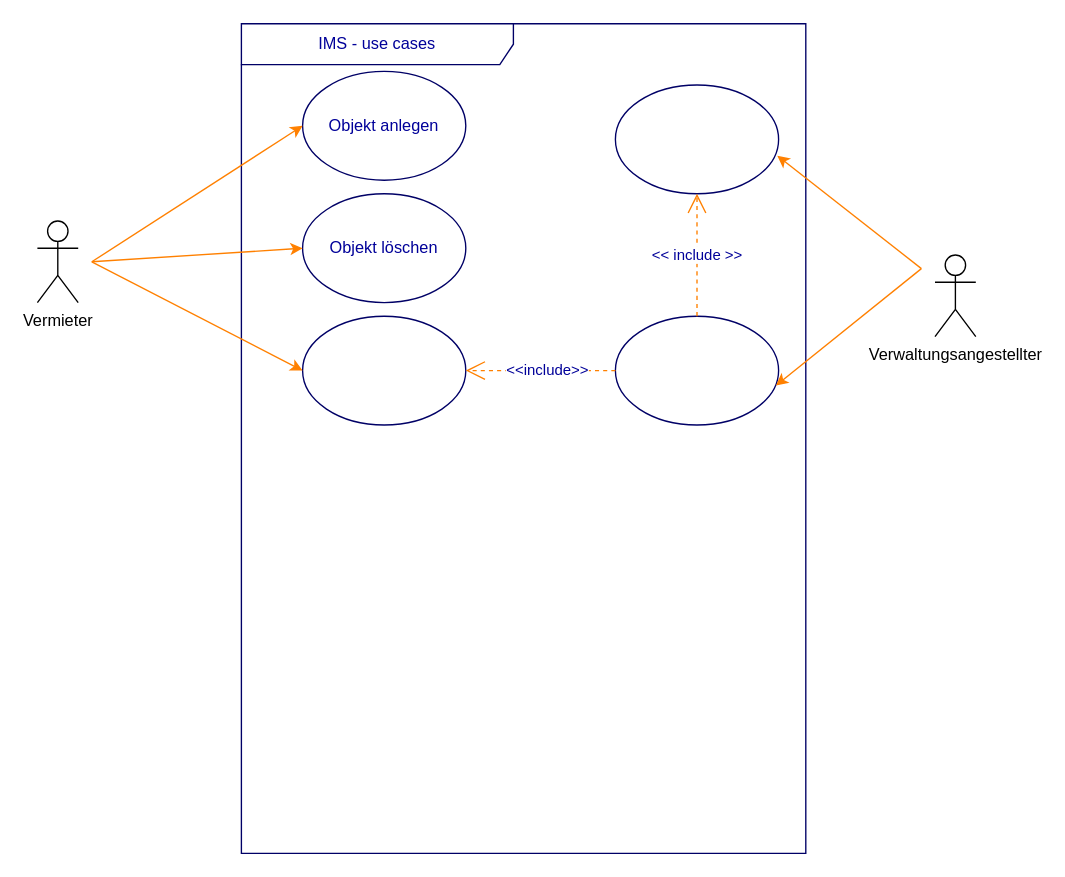
This 1065x877 diagram has some shape labels left out. Here are the shapes that lost their labels. From the top down, the centre of each, then its label:
point 696,139: Mietpreis ändern Mieter festlegen
point 383,370: Objekt ändern
point 696,370: Details ändern
